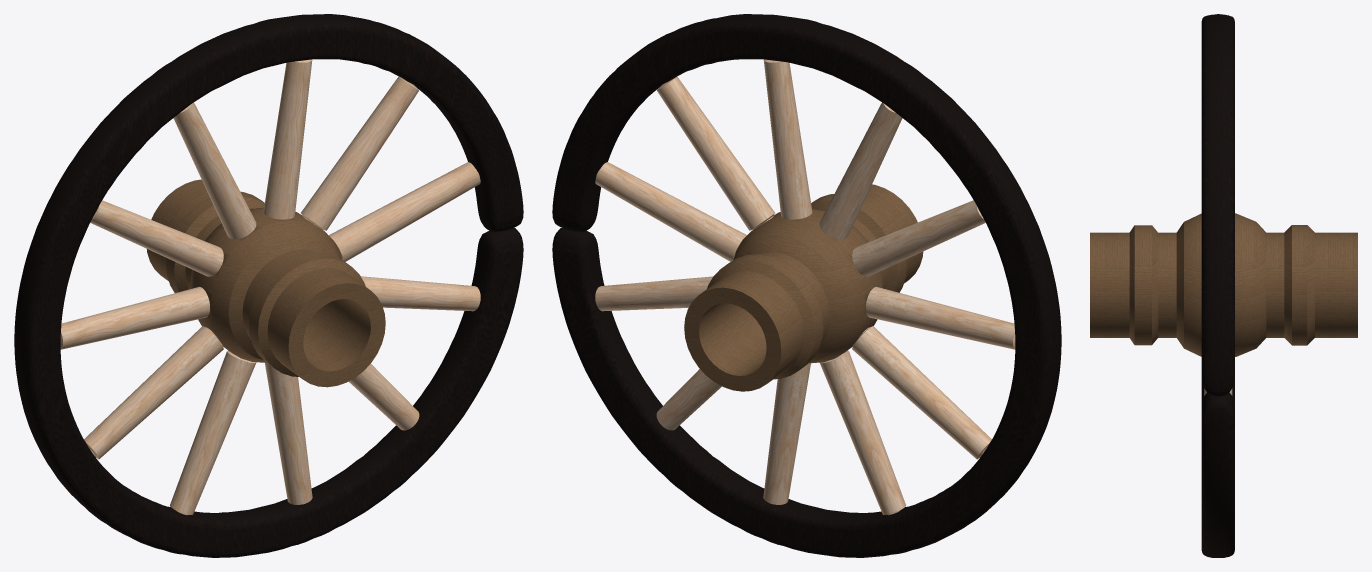
File: Wheel_14_animate_small.glb
3 views of the same model, side by side, from view 1: azimuth 30°, elevation 25°; view 2: azimuth 150°, elevation 25°; view 3: azimuth 270°, elevation 25° (orthographic). The views are drawn at different scales.
Parts seen in each view (by area): view 1: Felloe.003, Spoke Model.002, HUB; view 2: Felloe.003, Spoke Model.002, HUB; view 3: HUB, Felloe.003.
Part boxes in pixels (x1,y1,x2,y2): Felloe.003: [14, 14, 523, 557]; Spoke Model.002: [60, 59, 480, 515]; HUB: [147, 179, 385, 387]; Felloe.003: [552, 14, 1061, 557]; Spoke Model.002: [595, 59, 1015, 515]; HUB: [684, 184, 923, 391]; HUB: [1090, 213, 1357, 356]; Felloe.003: [1201, 14, 1234, 557].
Size of the model in its own units: 21.88 by 21.91 by 10.8.
3 materials, 3 textured.
